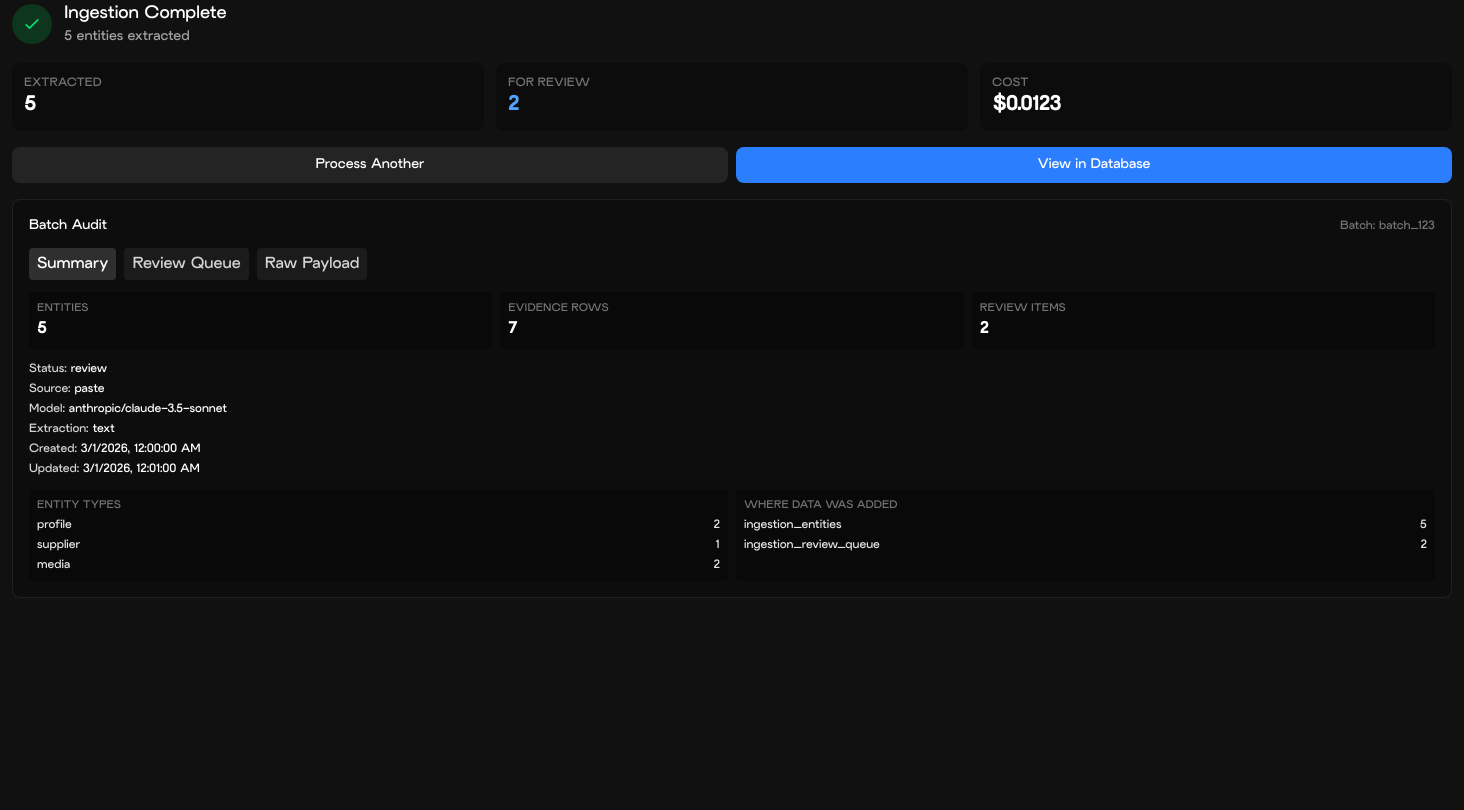
Test: IngestionResults › shows review queue and raw payload sections when selected
The image size is (1464, 810).
Click the button "Review Queue": [187, 264] box [124,248,249,280]
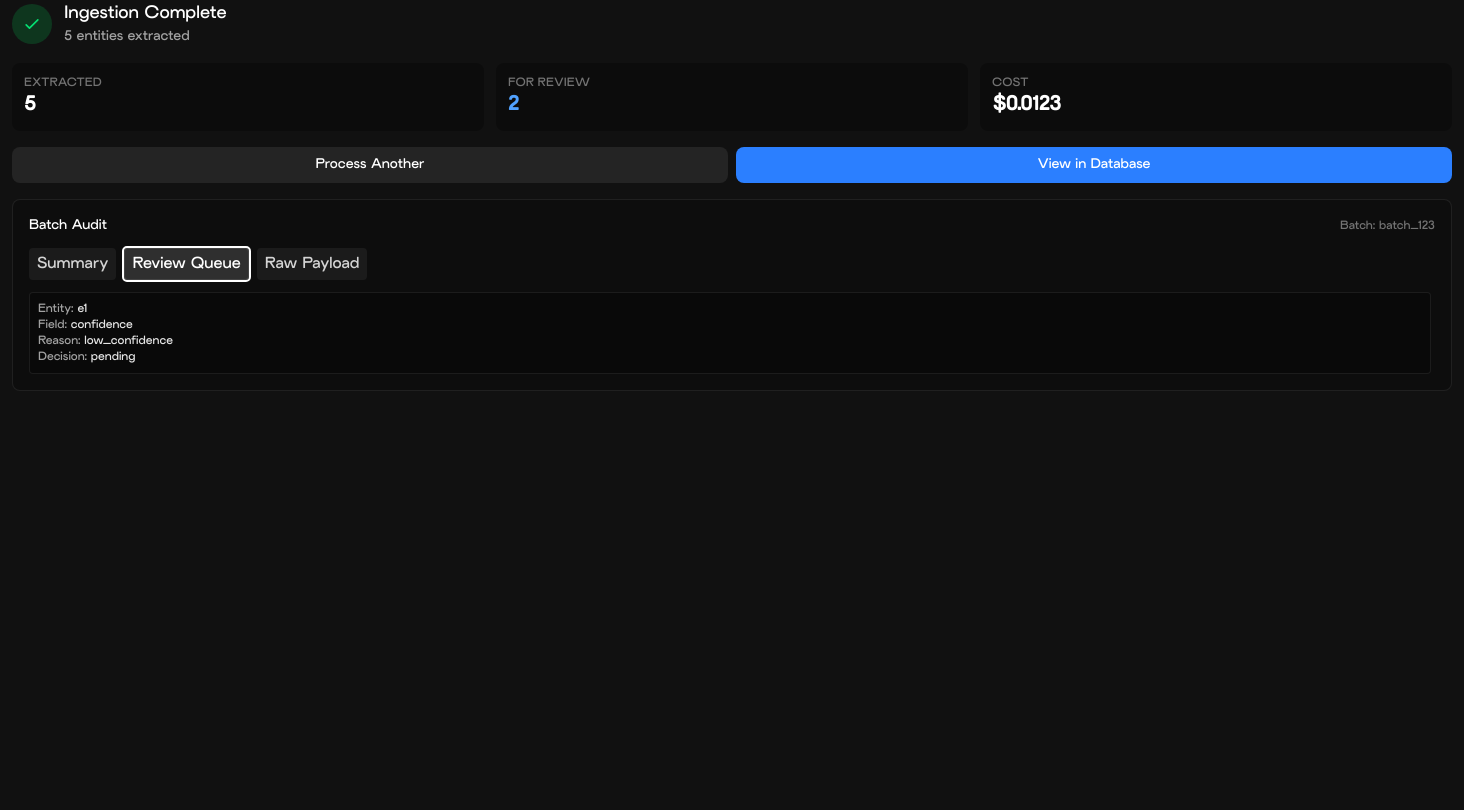
Expected: the text "Reason: low_confidence" is shown, [38,336,173,346]
Click the button "Raw Payload": [312, 264] box [257,248,368,280]
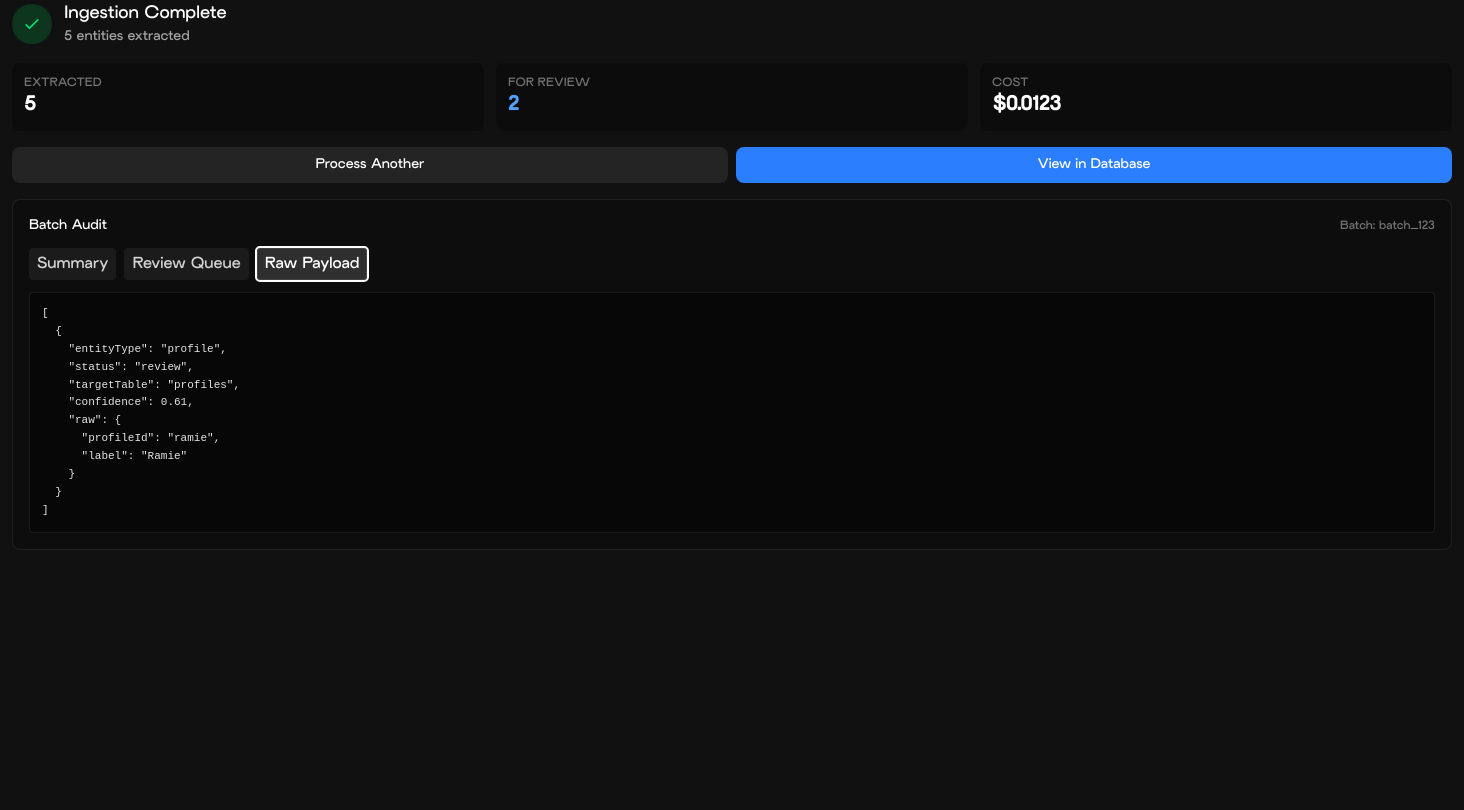
Expected: the text "\"profileId\": \"ramie\"" is shown, [42,307,240,516]
